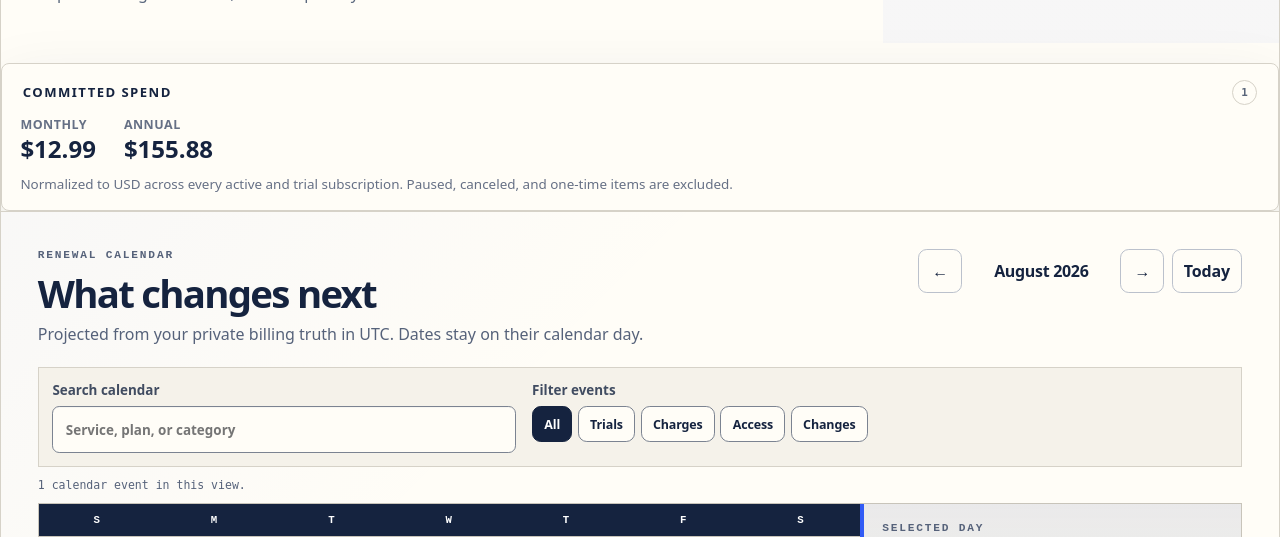
Scenario: SubscriptionExperience › withholds a later month when its correction range fails
Click the button named "Next month": [1142, 271] box [1120, 249, 1164, 293]
(page scrolled)
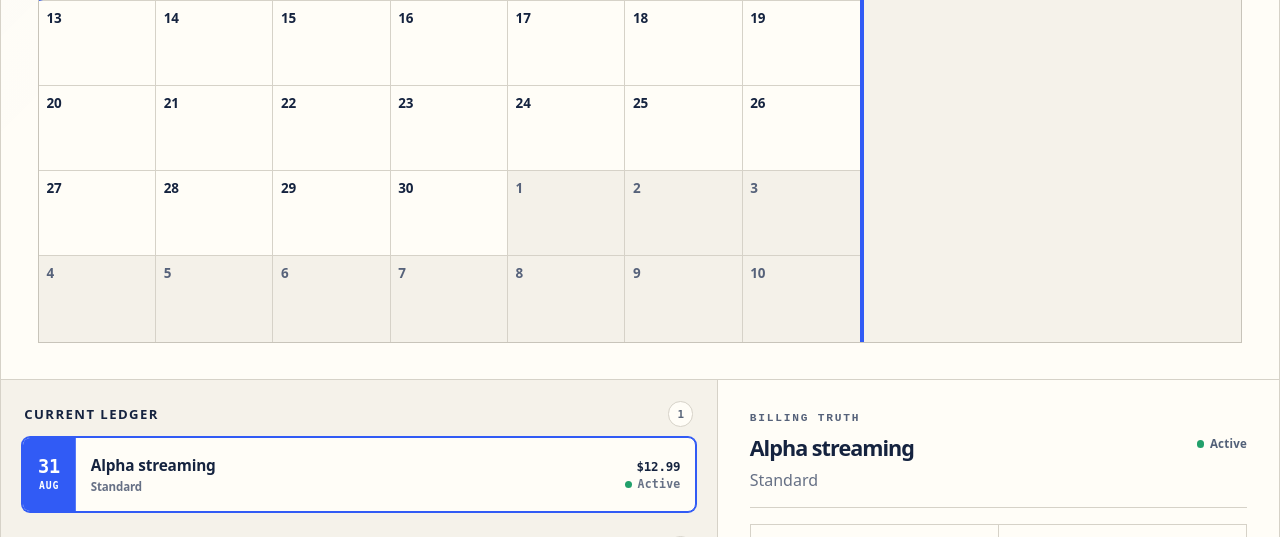
expect the cell named "Wednesday, September 30, 2026. Events unavailable" is shown: met, box [391, 171, 508, 256]
